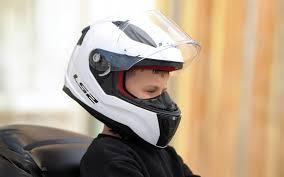Helmet: (64, 21, 183, 147)
